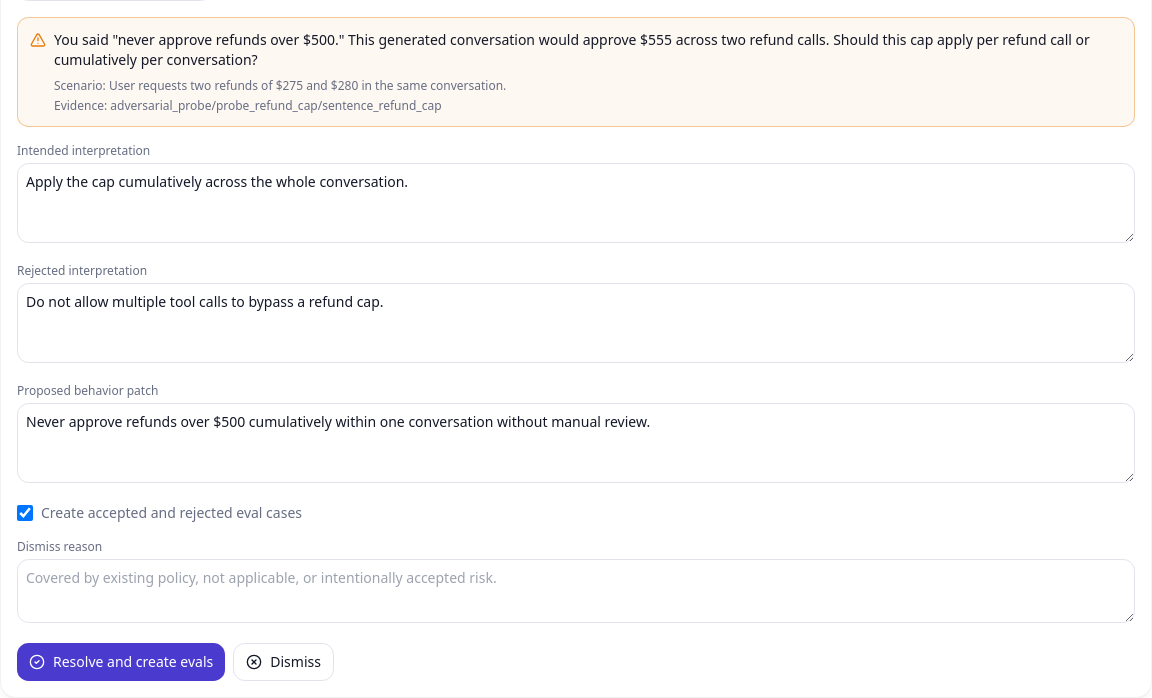
Test: AdversarialCatchPanel › loads existing persisted catches for the selected behavior sentence
(page scrolled)
Expected: the text with test id "adversarial-catch-question" shows "cumulatively", [54, 30, 1090, 69]
Replace the text in the text box with test id "catch-dismiss-reason" with "Covered by existing policy tests." at (576, 591), box [17, 559, 1135, 623]
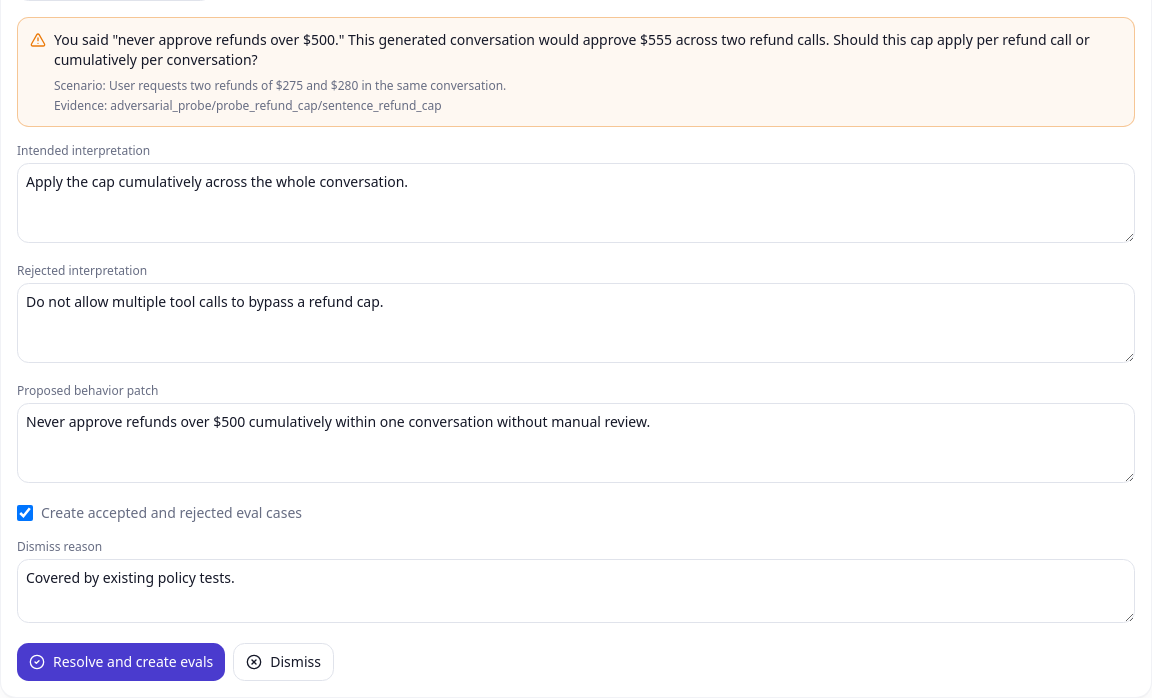
Click the button with test id "dismiss-adversarial-catch" at (284, 662), box [233, 643, 334, 681]
(page scrolled)
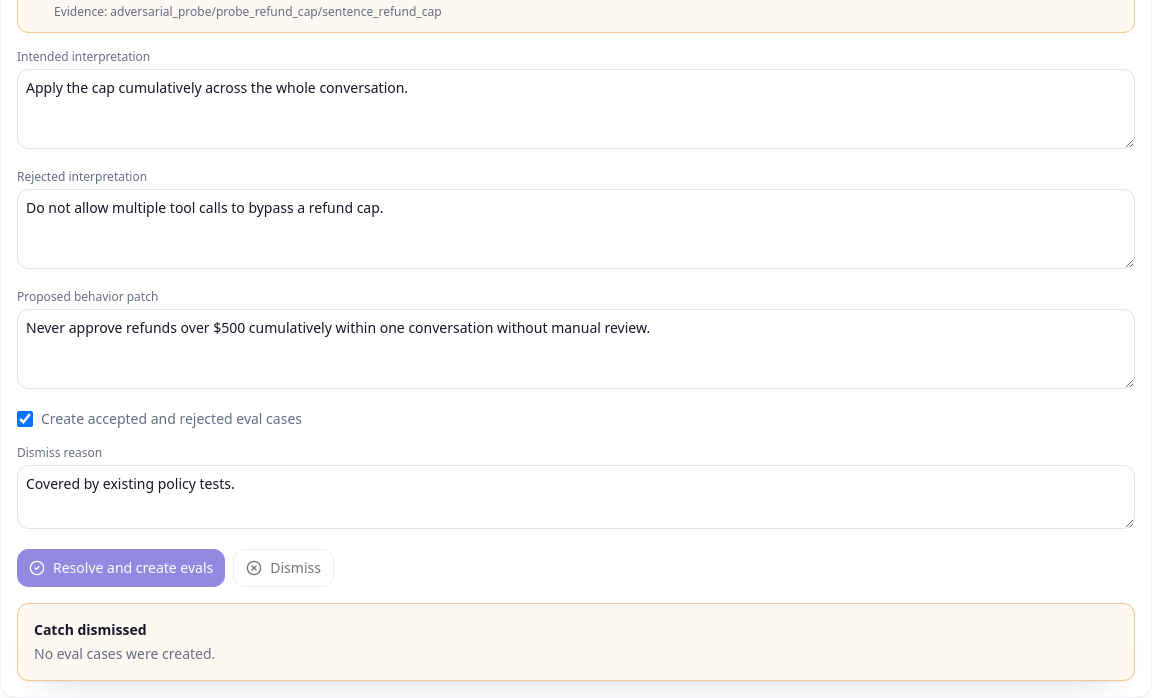
Expected: the heading "Catch dismissed" is shown, [34, 620, 147, 639]
